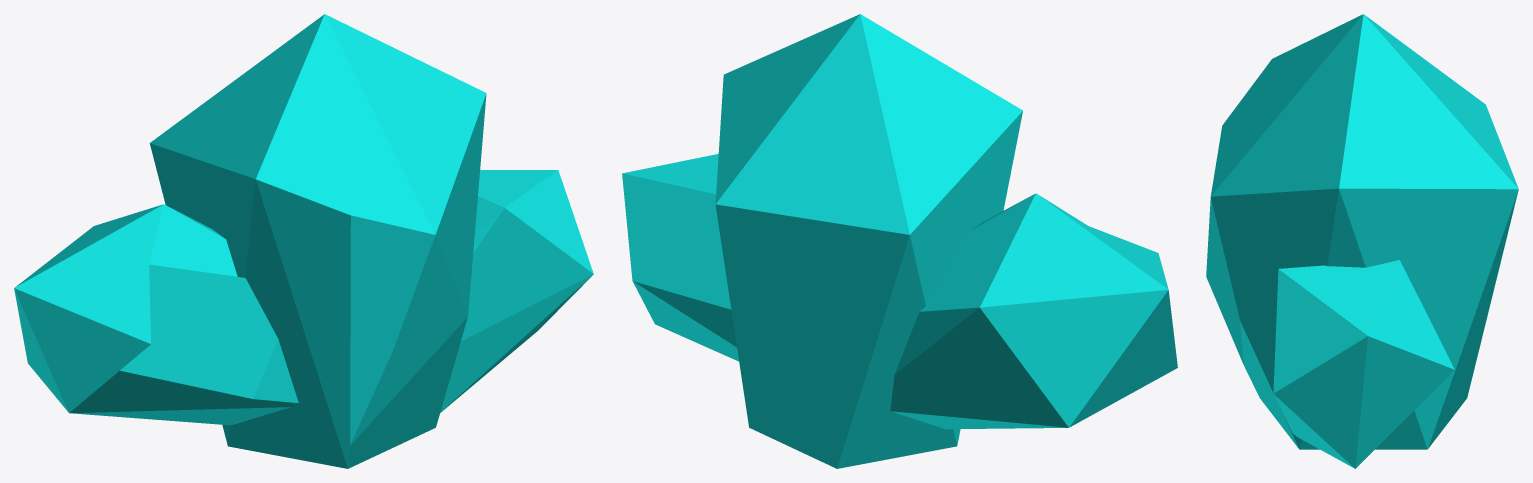
Rendered from Crystal.fbx.
The picture shows the model from 3 angles, left to right: view 1: azimuth 30°, elevation 25°; view 2: azimuth 150°, elevation 25°; view 3: azimuth 270°, elevation 25°; orthographic projection. The views are drawn at different scales.
Parts seen in each view (by area): view 1: Icosphere; view 2: Icosphere; view 3: Icosphere.
Boxes of the visible parts, x1,y1,x2,y2 form: Icosphere: (14, 14, 593, 468); Icosphere: (622, 14, 1177, 468); Icosphere: (1206, 14, 1518, 468).
Size of the model in its own units: 416 by 298 by 212.
